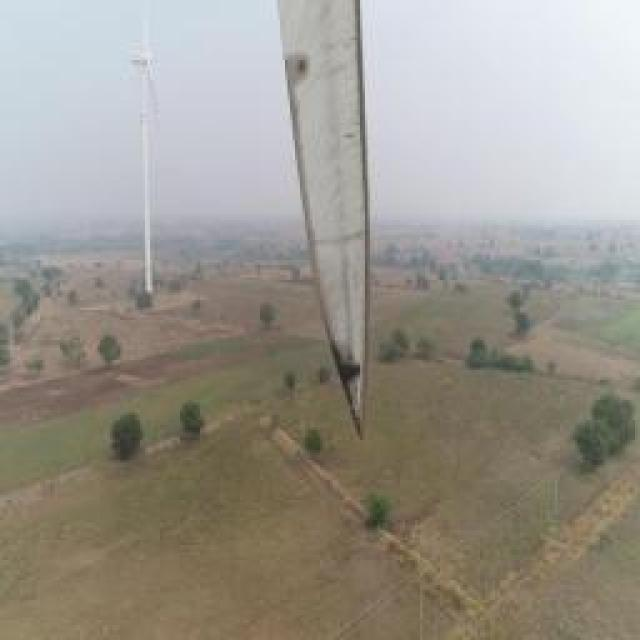Dirt: (279, 0, 374, 435)
Oil LEAKAGE: (329, 340, 366, 436)
Pin Hole: (293, 52, 309, 78)
